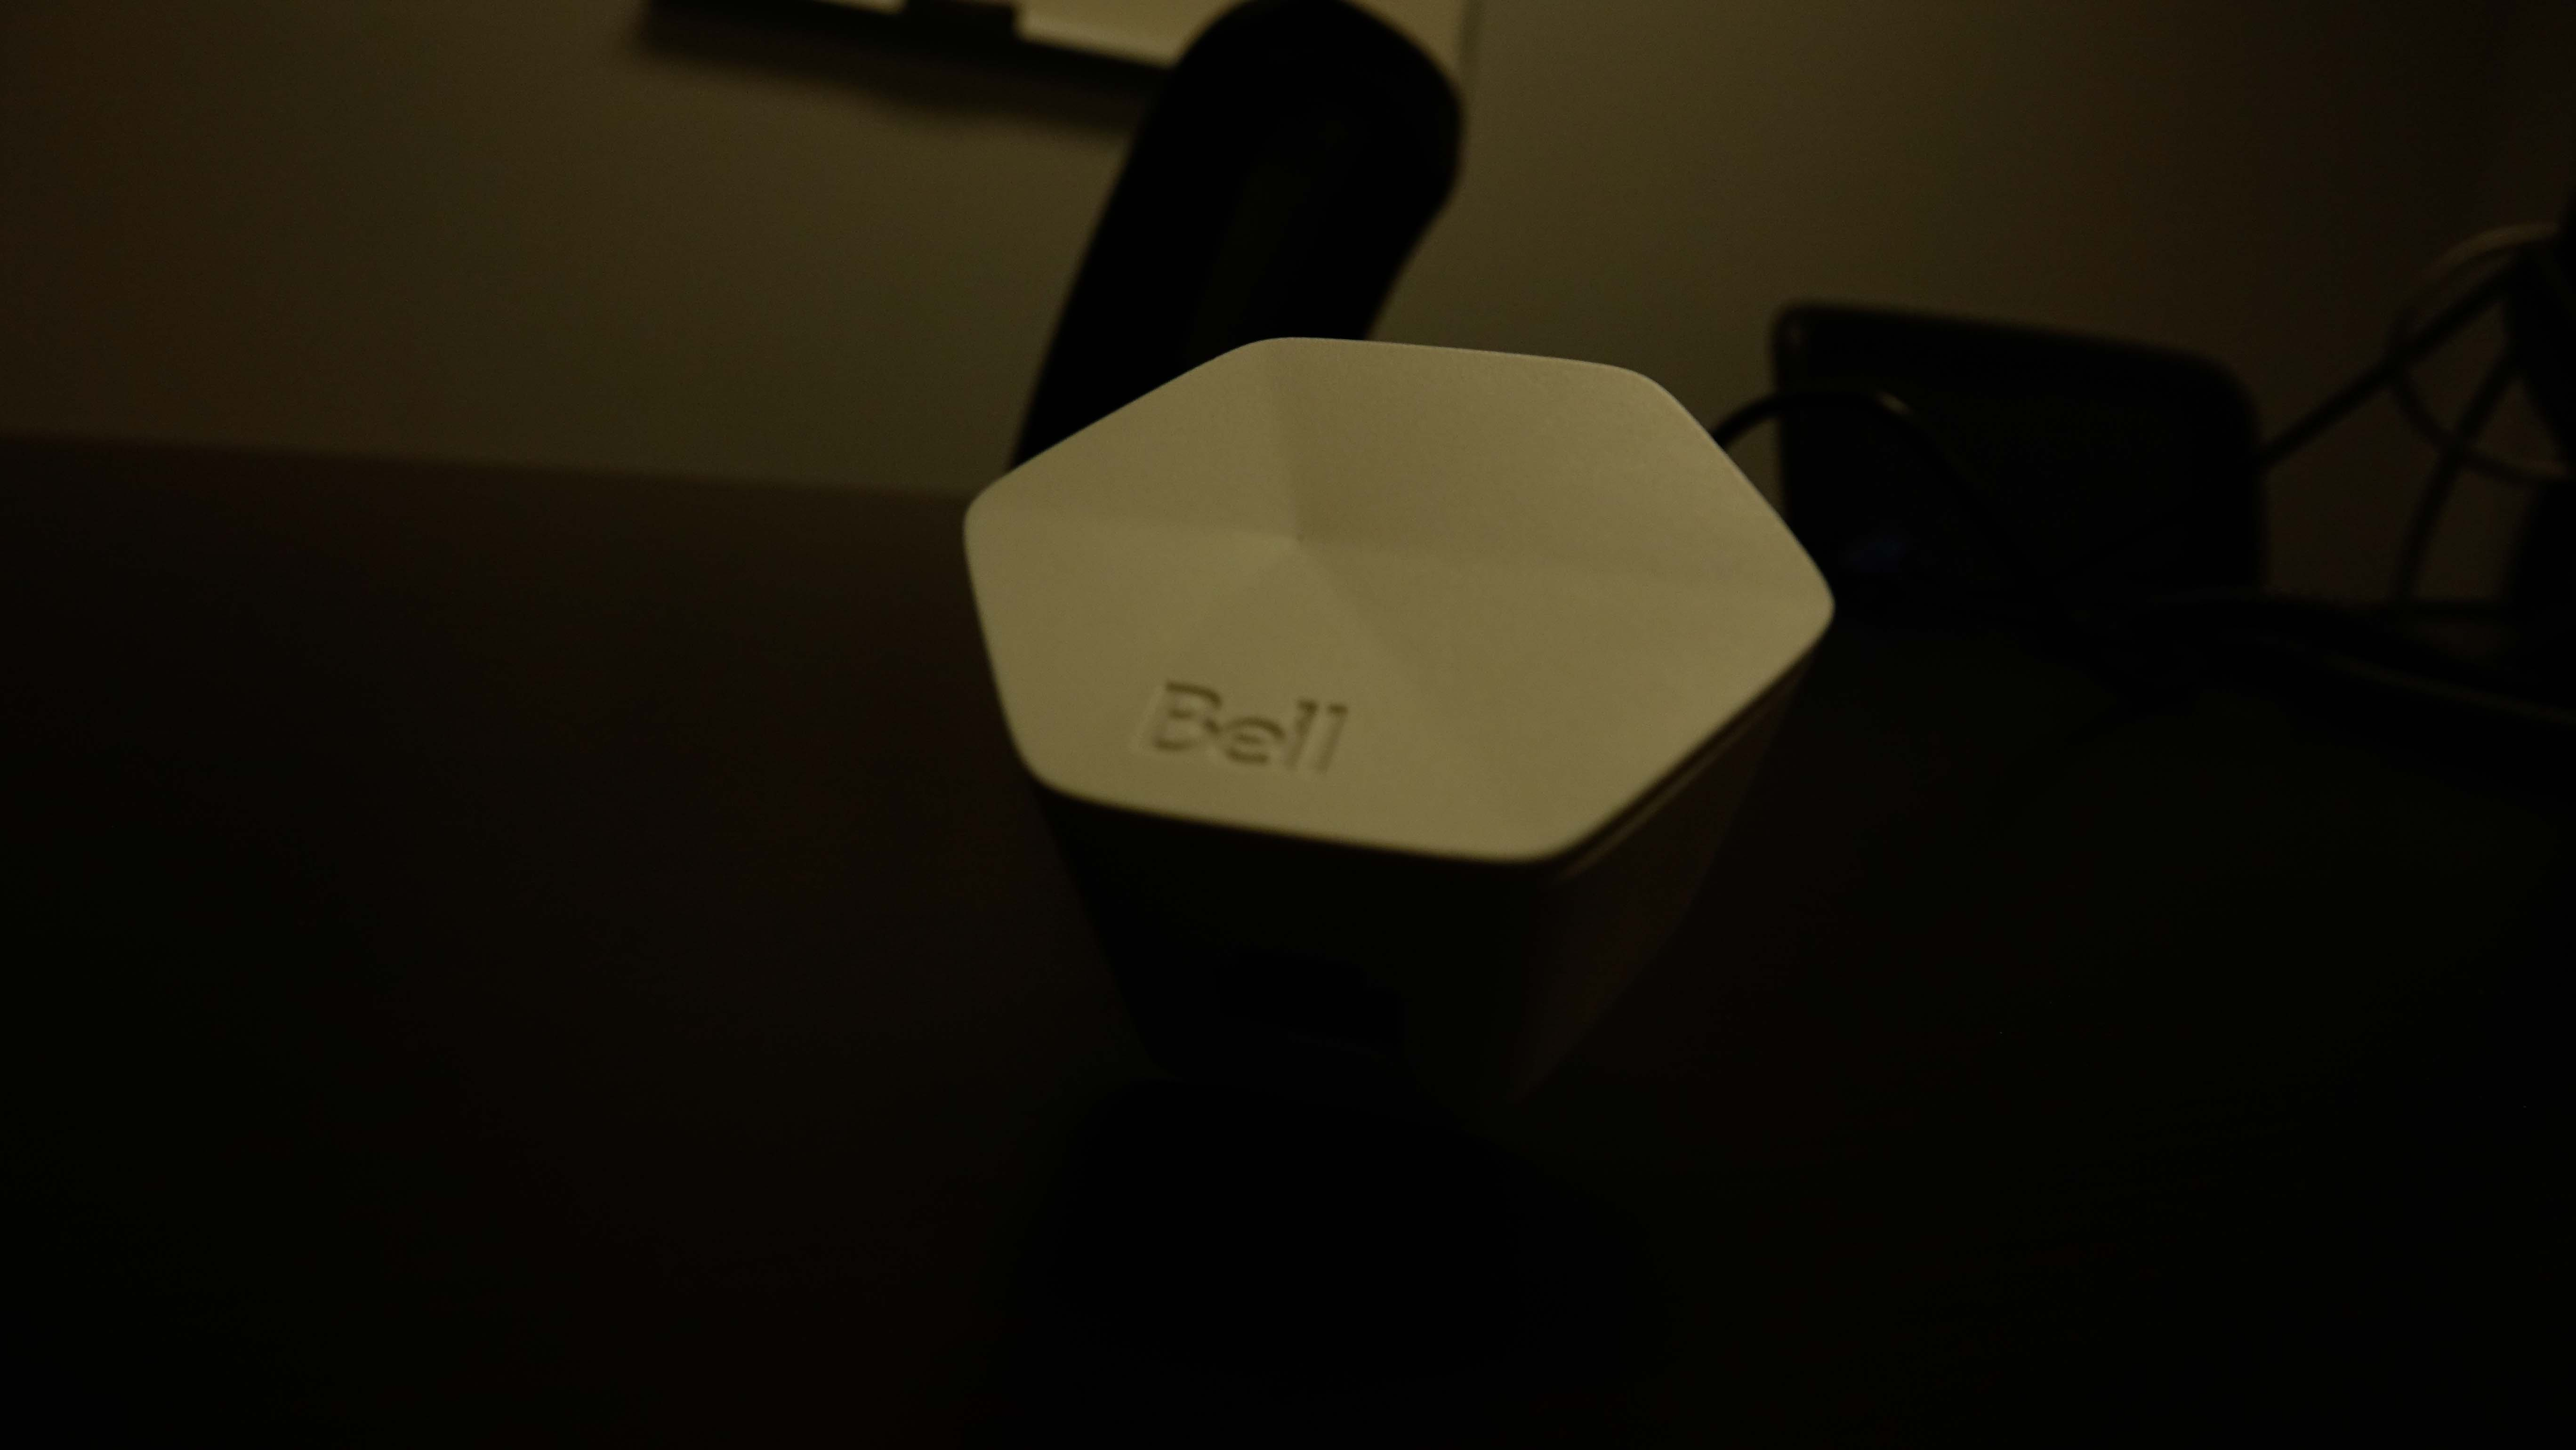pod: (947, 331, 1844, 1135)
